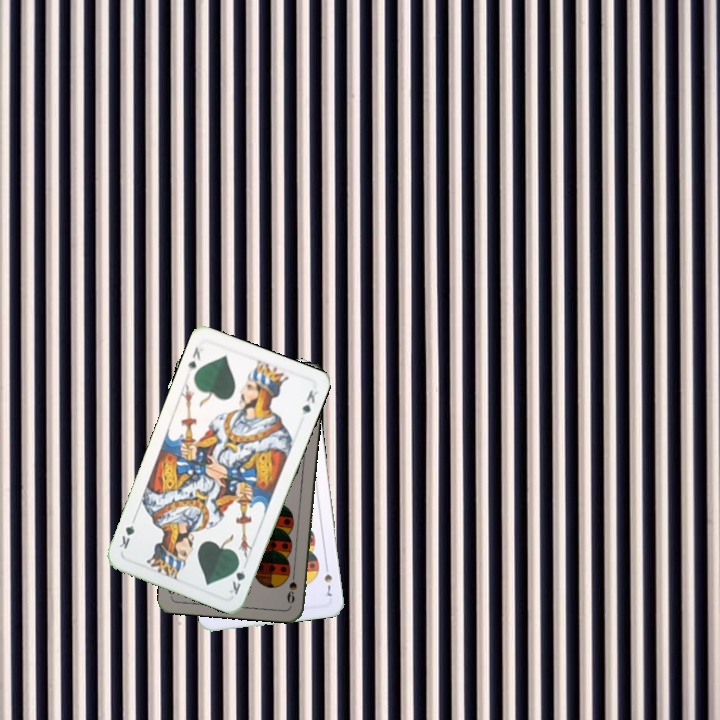GK: (225, 557, 248, 597), (184, 342, 203, 374)
S7: (320, 560, 335, 599)
S9: (283, 566, 300, 606)
